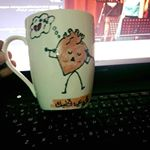cups: (1, 5, 99, 112)
